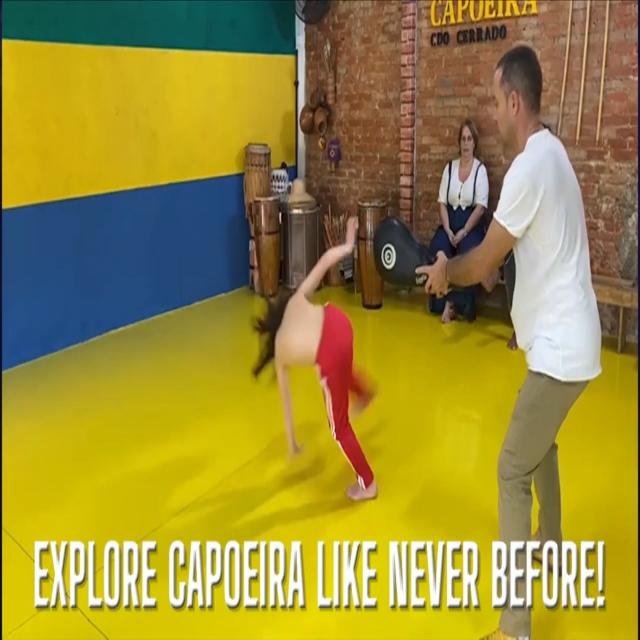paddle: (371, 214, 447, 292)
